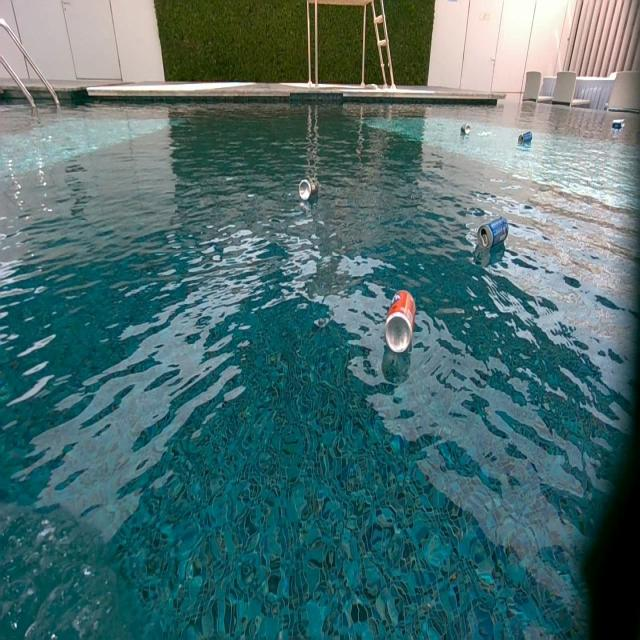Cans: (385, 289, 415, 355), (478, 218, 509, 252), (299, 178, 319, 200), (520, 132, 534, 144), (460, 125, 471, 138), (614, 119, 626, 129)
